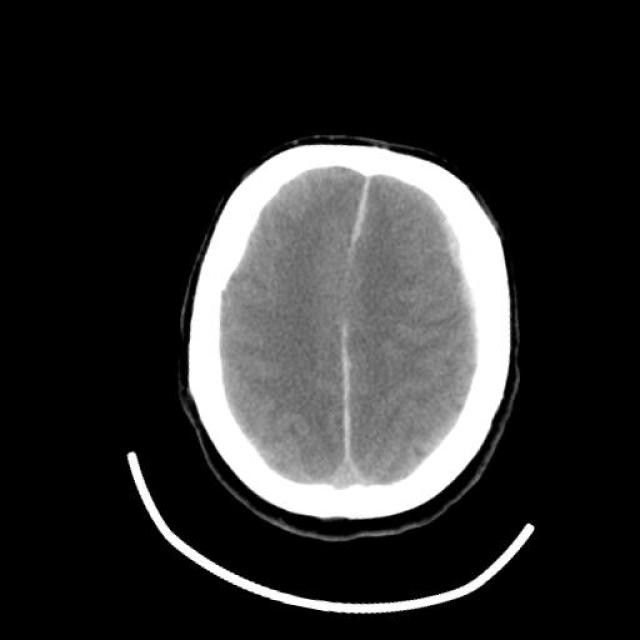Subdural: (404, 198, 515, 344)
